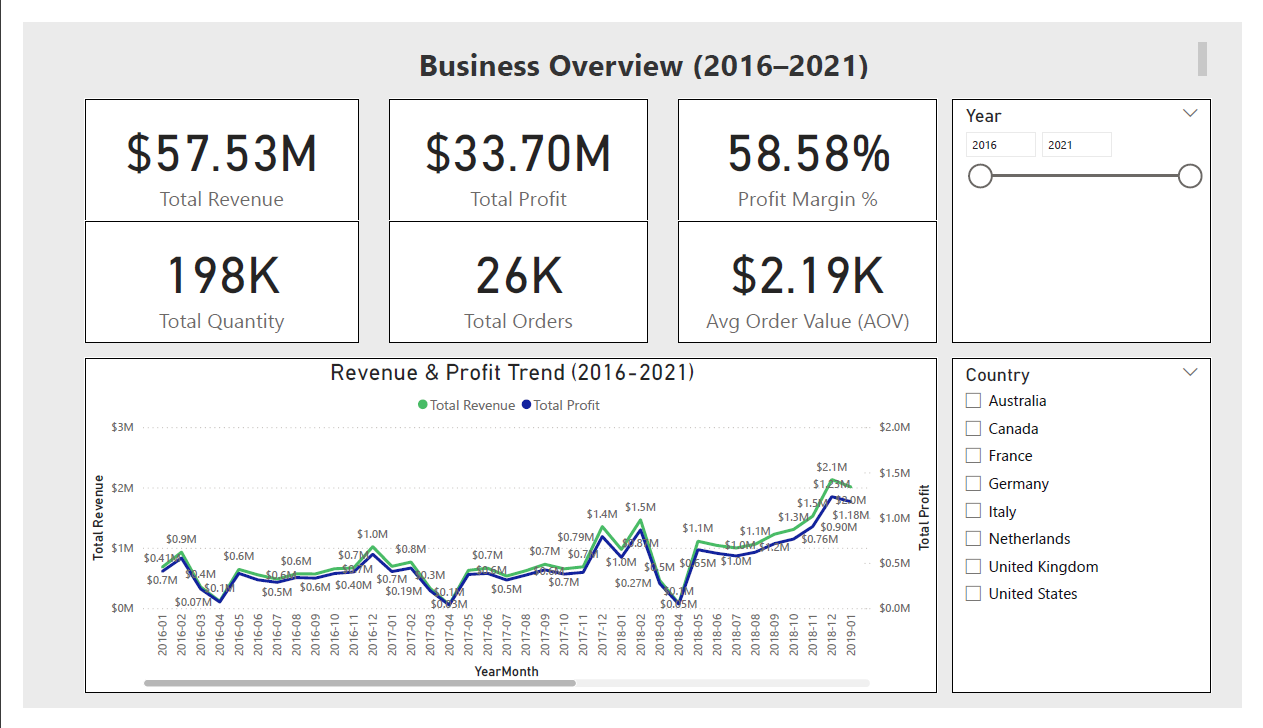

The page's visual inventory and layout, read from the dashboard file:
{"tool":"powerbi","page":{"name":"Executive Overview","canvas":[1280,720],"ordinal":0},"visuals":[{"type":"card","fields":{"Values":["gold_fact_sales.Total Revenue"]},"box":[64,80,288,128],"z":0},{"type":"card","fields":{"Values":["gold_fact_sales.Total Profit"]},"box":[384,80,272,128],"z":1000},{"type":"card","fields":{"Values":["gold_fact_sales.Profit Margin %"]},"box":[688,80,272,128],"z":2000},{"type":"card","fields":{"Values":["gold_fact_sales.Total Orders"]},"box":[384,208,272,128],"z":3000},{"type":"card","fields":{"Values":["gold_fact_sales.Avg Order Value (AOV)"]},"box":[688,208,272,128],"z":4000},{"type":"card","fields":{"Values":["gold_fact_sales.Total Quantity"]},"box":[64,208,288,128],"z":5000},{"type":"lineChart","title":"Revenue & Profit Trend (2016-2021)","fields":{"Category":["DimDate.YearMonth"],"Y":["gold_fact_sales.Total Revenue"],"Y2":["gold_fact_sales.Total Profit"]},"box":[64,352,896,352],"z":6000},{"type":"slicer","fields":{"Values":["DimDate.Year"]},"box":[976,80,272,256],"z":7000},{"type":"slicer","fields":{"Values":["gold_dim_customers.country"]},"box":[976,352,272,352],"z":8000},{"type":"textbox","box":[64,16,1184,48],"z":9000}]}

Visuals, with their boxes in screenshot pixels (x1, y1, x2, y2), scaled from the page's 1280x720 canvas onto the 1263x728 screenshot:
card - gold_fact_sales.Total Revenue: left=63, top=81, right=347, bottom=210
card - gold_fact_sales.Total Profit: left=379, top=81, right=647, bottom=210
card - gold_fact_sales.Profit Margin %: left=679, top=81, right=947, bottom=210
card - gold_fact_sales.Total Orders: left=379, top=210, right=647, bottom=340
card - gold_fact_sales.Avg Order Value (AOV): left=679, top=210, right=947, bottom=340
card - gold_fact_sales.Total Quantity: left=63, top=210, right=347, bottom=340
"Revenue & Profit Trend (2016-2021)" lineChart: left=63, top=356, right=947, bottom=712
slicer - DimDate.Year: left=963, top=81, right=1231, bottom=340
slicer - gold_dim_customers.country: left=963, top=356, right=1231, bottom=712
textbox: left=63, top=16, right=1231, bottom=65
